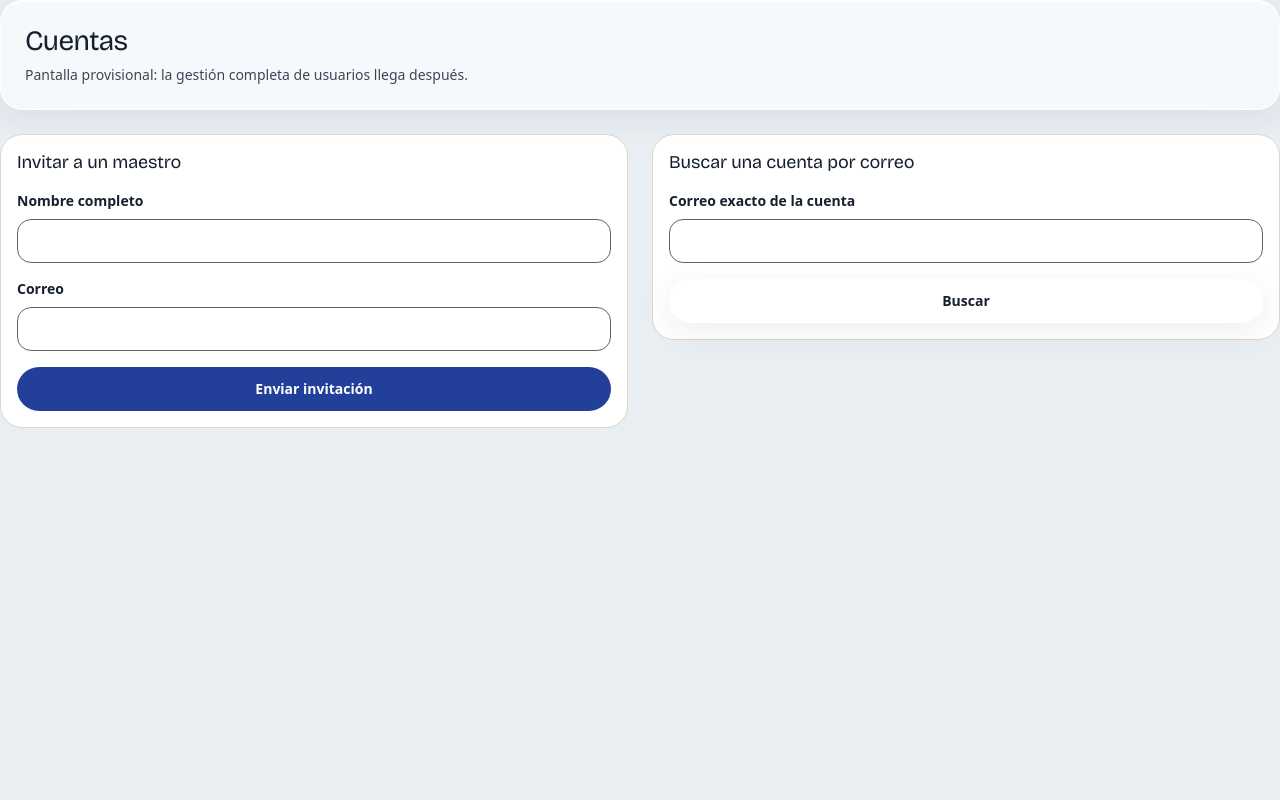
Scenario: ataque (AUTH-02b r2): sin estados cruzados entre cuentas › una corrección de Carla que termina después de buscar a Beto no cambia la ficha de Beto
This screenshot has width=1280, height=800.
Type "carla@ejemplo.mx" into the field labelled "Correo exacto de la cuenta" at (966, 241), box [669,219,1263,263]
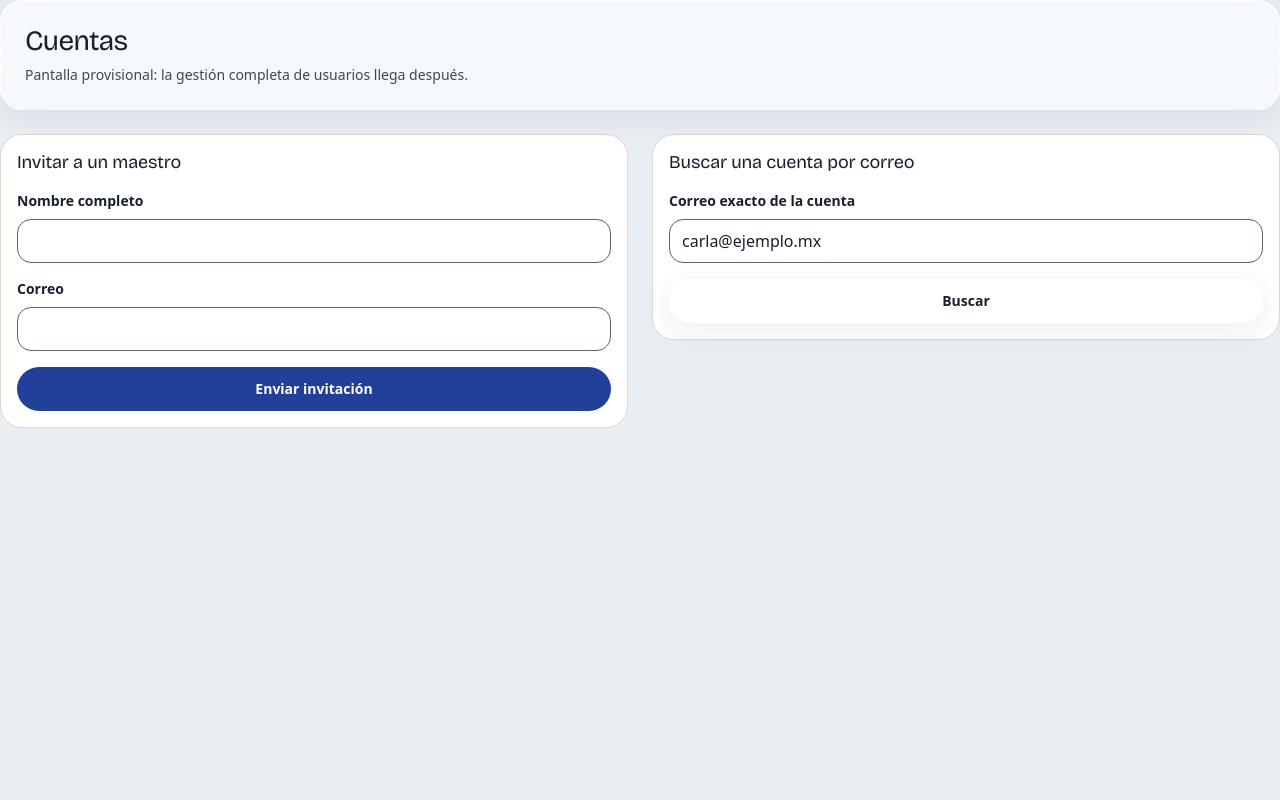
Click the button "Buscar" at (966, 301), box [669,279,1263,323]
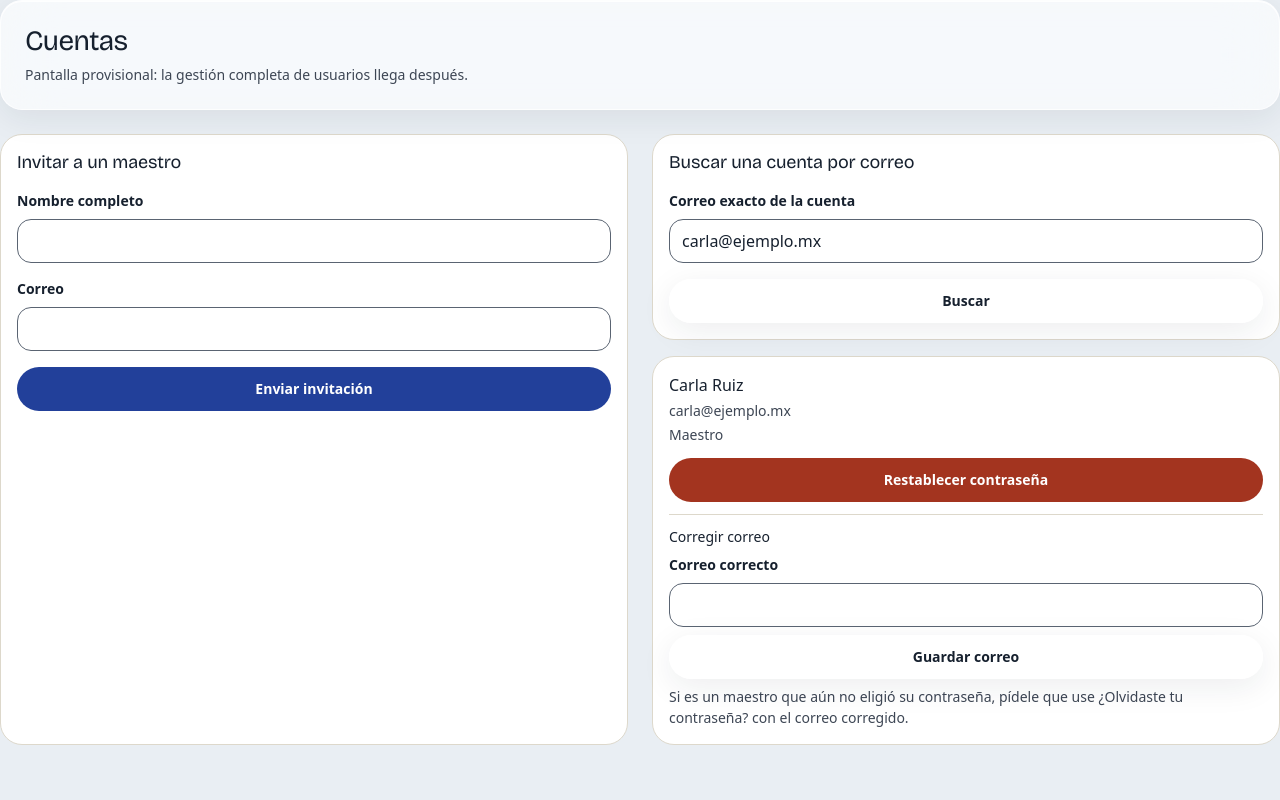
Check: the text "Carla Ruiz" is shown, box [669,374,744,396]
Type "carla.ruiz@ejemplo.mx" into the field labelled "Correo correcto" at (966, 605), box [669,583,1263,627]
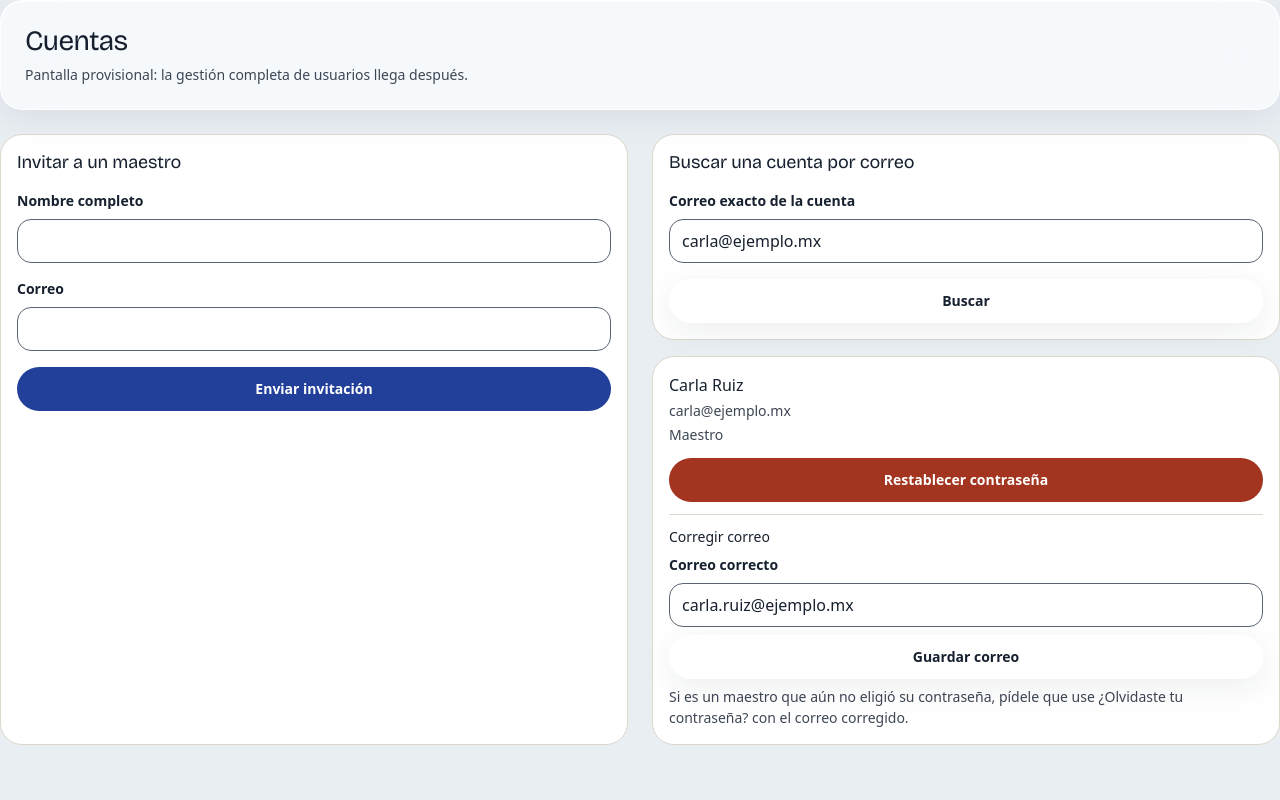
Click the button "Guardar correo" at (966, 657), box [669,635,1263,679]
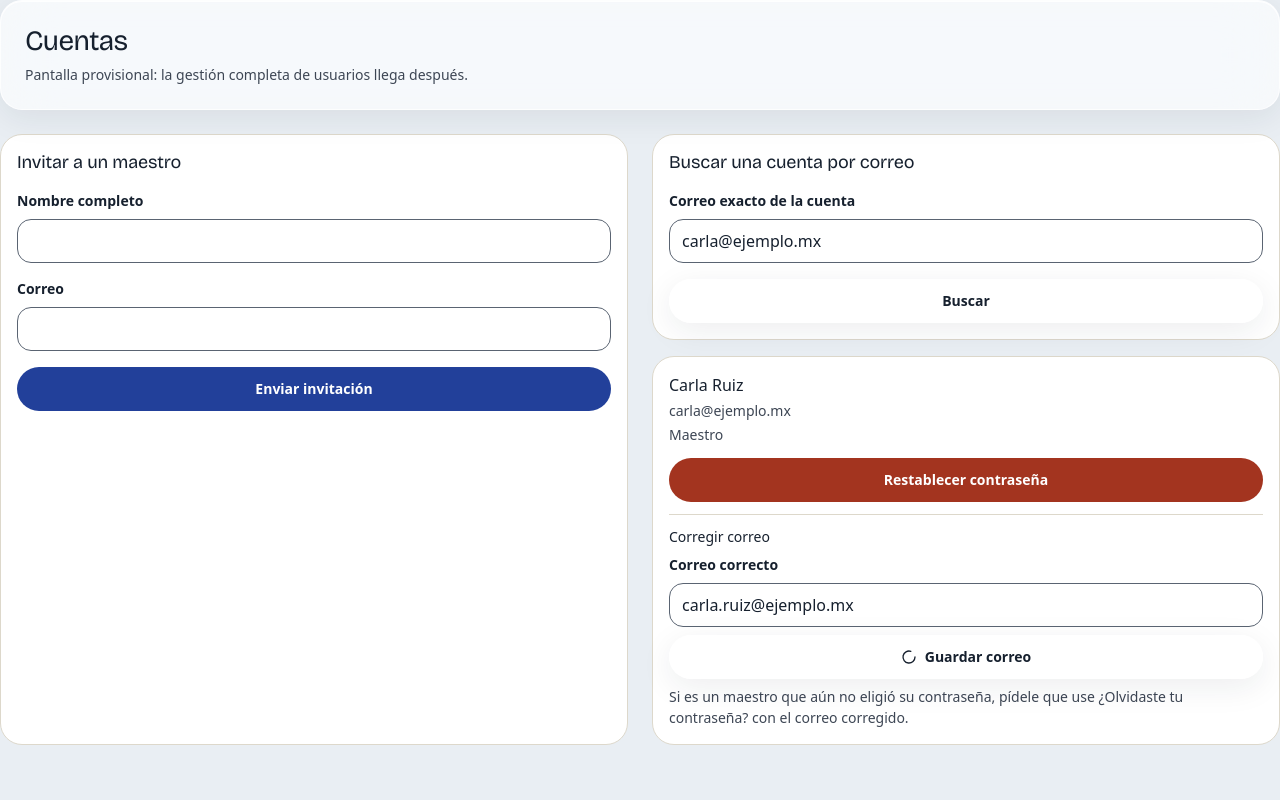
Replace the text in the field labelled "Correo exacto de la cuenta" with "beto@ejemplo.mx" at (966, 241), box [669,219,1263,263]
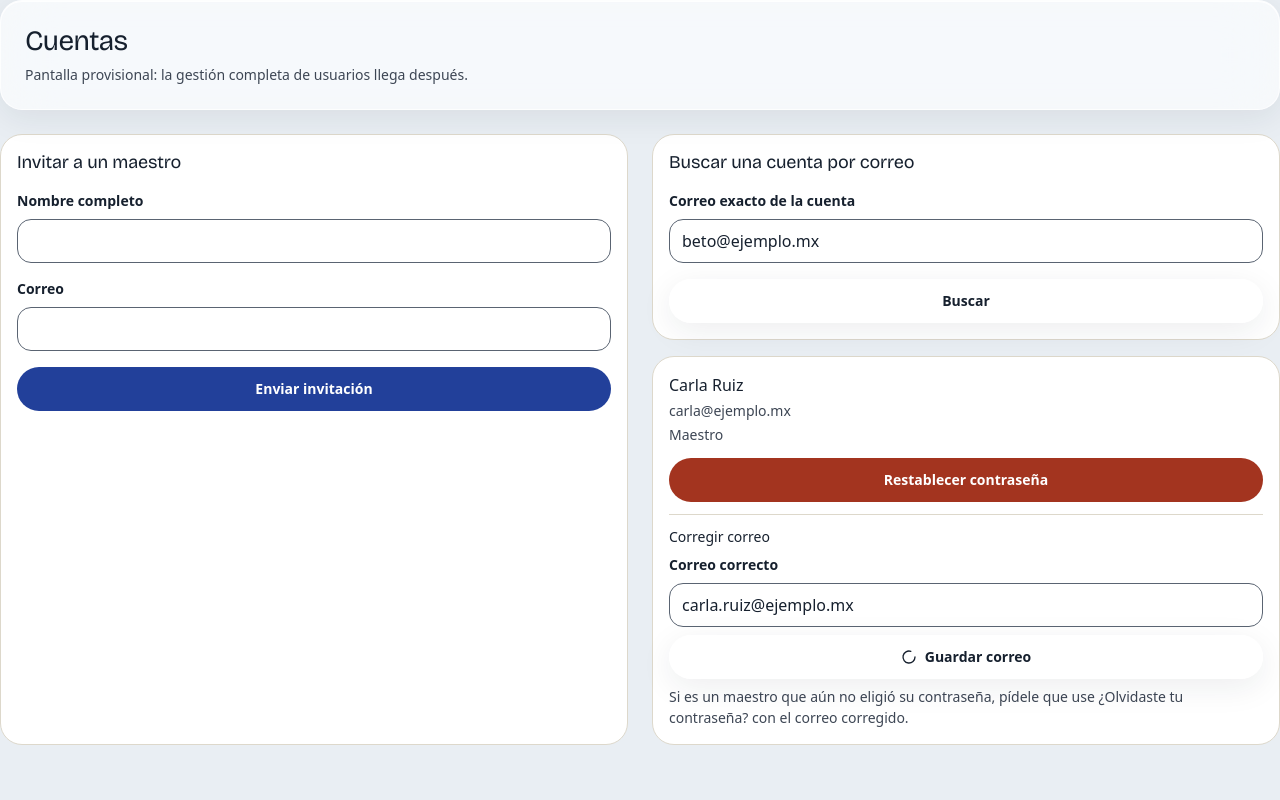
Click the button "Buscar" at (966, 301), box [669,279,1263,323]
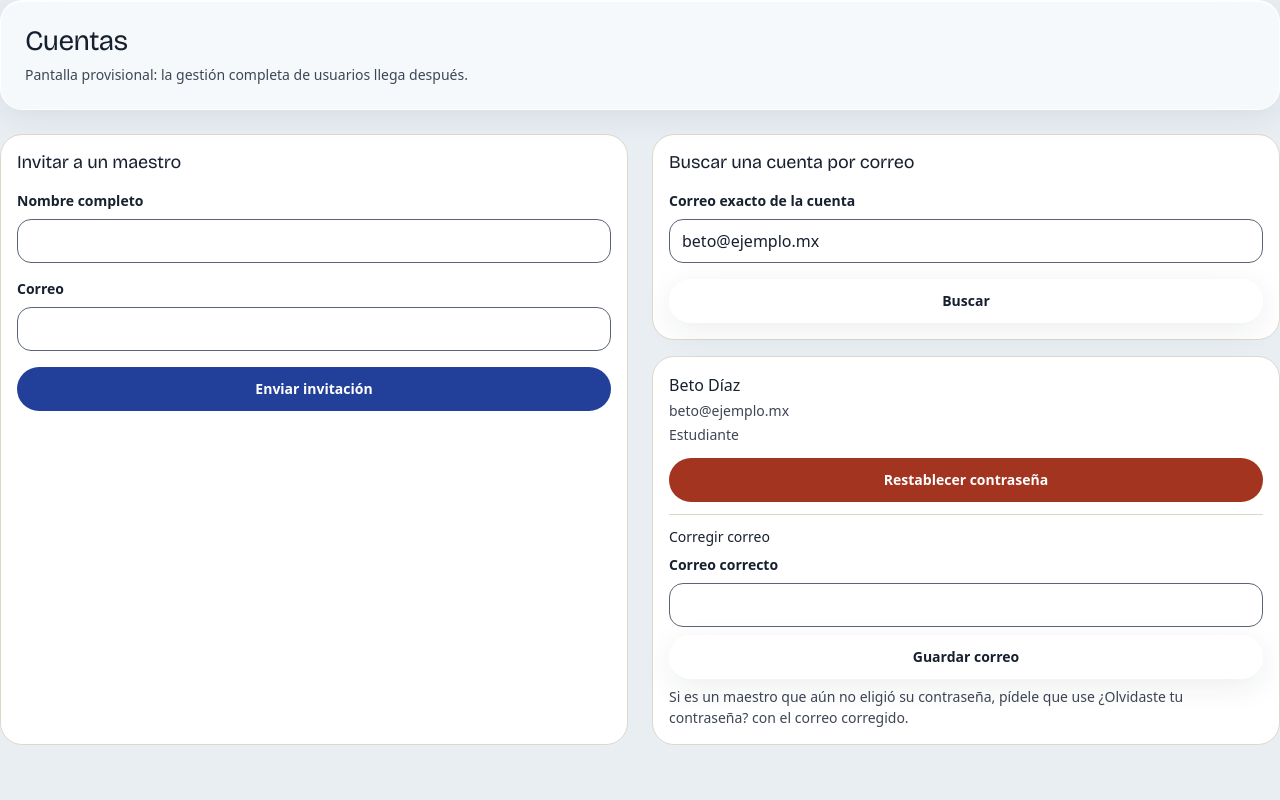
Check: the text "Beto Díaz" is shown, box [669,374,740,396]
Check: the text "beto@ejemplo.mx" is shown, box [669,401,789,420]
Check: the text "Carla Ruiz" is gone
